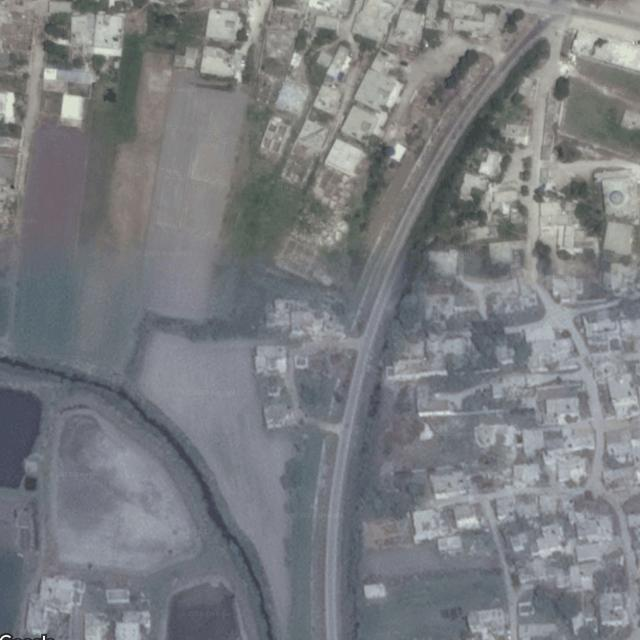damaged_building: (288, 304, 348, 340)
